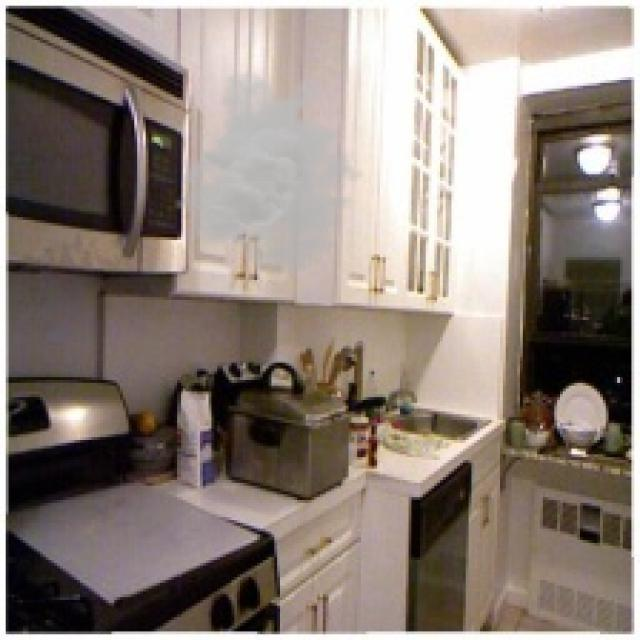smoke: (174, 69, 374, 274)
